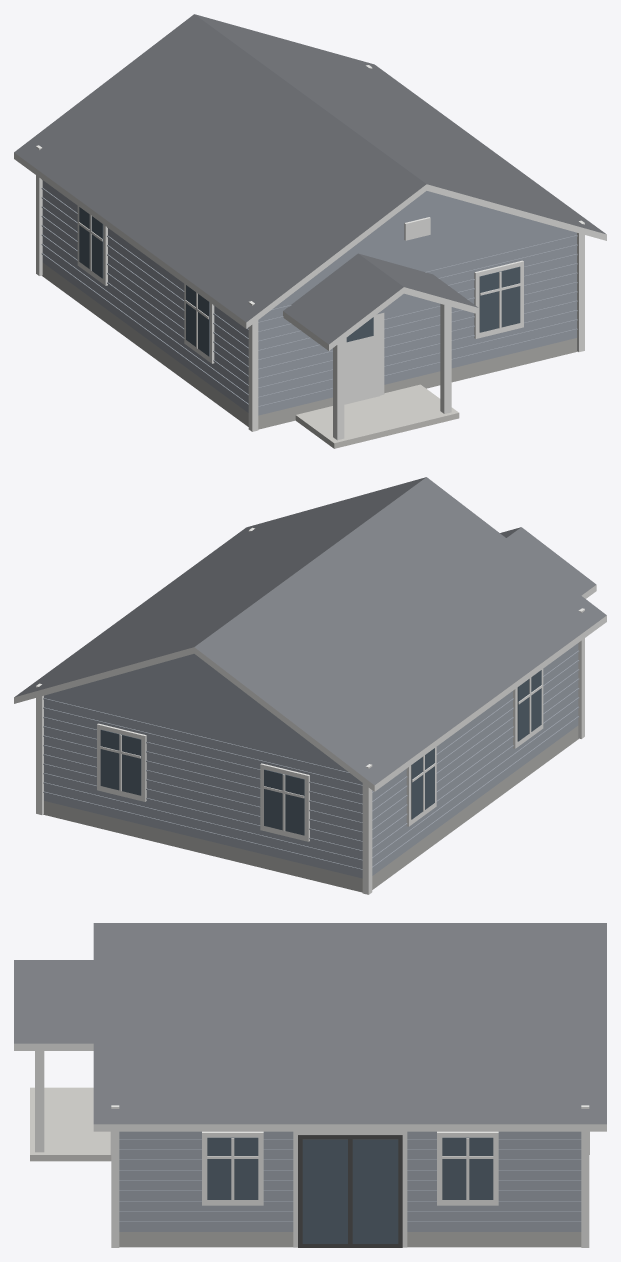
Rendered from manteca-cottage.glb.
3 renders of one model, top to bottom at view 1: azimuth 30°, elevation 25°; view 2: azimuth 150°, elevation 25°; view 3: azimuth 270°, elevation 25°, orthographic. The views are drawn at different scales.
Parts seen in each view (by area): view 1: The Manteca (cottage); view 2: The Manteca (cottage); view 3: The Manteca (cottage).
Boxes of the visible parts, x1,y1,x2,y2 form: The Manteca (cottage): (14, 14, 606, 448); The Manteca (cottage): (14, 477, 606, 894); The Manteca (cottage): (14, 923, 606, 1247).
Bounding box in the file's own units: 8.08 × 4.58 × 10.41.
